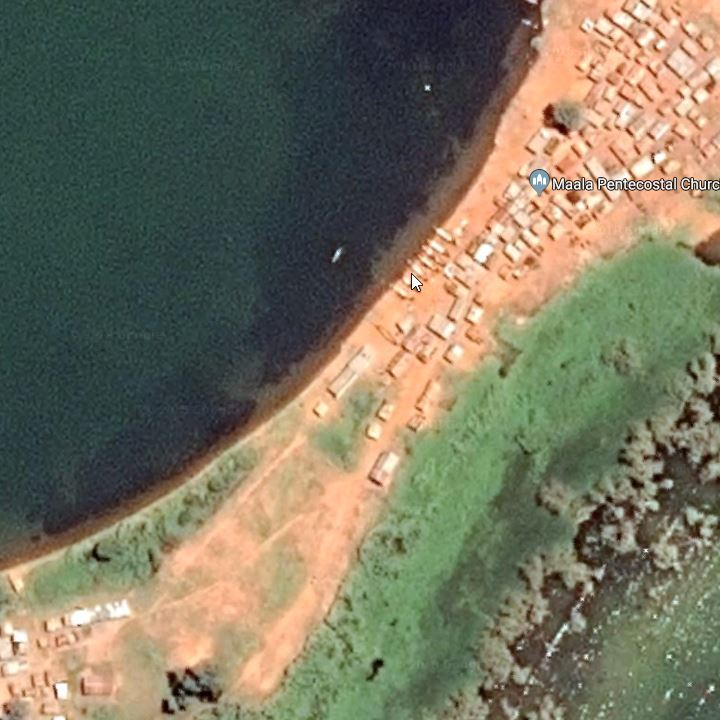boat: (395, 246, 441, 277), (391, 259, 425, 293), (412, 228, 454, 255), (426, 218, 464, 246), (381, 278, 419, 306), (415, 239, 449, 270), (400, 254, 436, 283), (322, 244, 349, 270)
